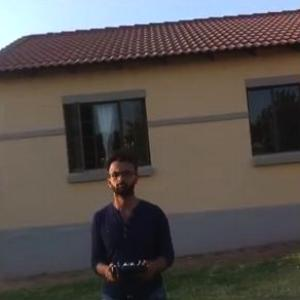follow: (86, 146, 180, 299)
